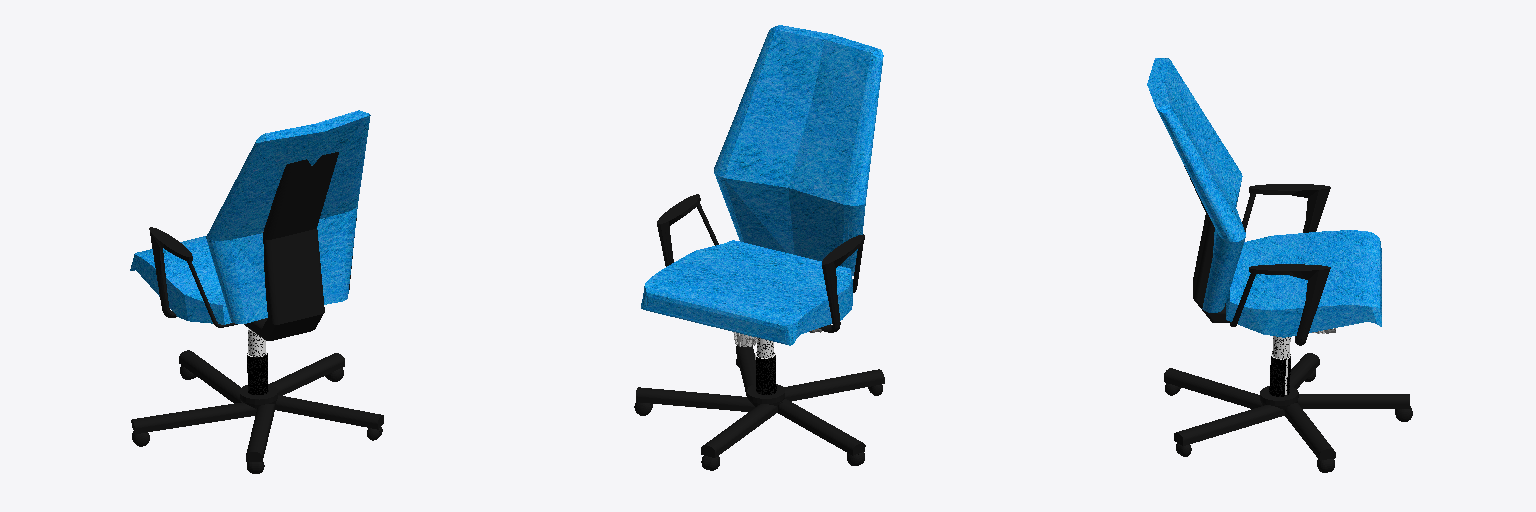
3 renders of one model, left to right at view 1: azimuth 30°, elevation 25°; view 2: azimuth 150°, elevation 25°; view 3: azimuth 270°, elevation 25°, orthographic.
Parts seen in each view (by area): view 1: mesh7_mesh7-geometry, mesh9_mesh9-geometry, mesh17_mesh17-geometry, mesh8_mesh8-geometry, mesh18_mesh18-geometry, mesh13_mesh13-geometry, mesh5_mesh5-geometry; view 2: mesh7_mesh7-geometry, mesh8_mesh8-geometry, mesh17_mesh17-geometry, mesh18_mesh18-geometry, mesh13_mesh13-geometry, mesh5_mesh5-geometry, mesh3_mesh3-geometry; view 3: mesh8_mesh8-geometry, mesh7_mesh7-geometry, mesh17_mesh17-geometry, mesh3_mesh3-geometry, mesh5_mesh5-geometry, mesh9_mesh9-geometry, mesh13_mesh13-geometry, mesh18_mesh18-geometry.
Boxes of the visible parts, x1,y1,x2,y2 form: mesh7_mesh7-geometry: [206, 110, 370, 323]; mesh9_mesh9-geometry: [244, 152, 338, 340]; mesh17_mesh17-geometry: [179, 350, 383, 462]; mesh8_mesh8-geometry: [130, 236, 231, 324]; mesh18_mesh18-geometry: [131, 400, 256, 433]; mesh13_mesh13-geometry: [247, 328, 267, 394]; mesh5_mesh5-geometry: [149, 227, 192, 305]; mesh7_mesh7-geometry: [714, 25, 883, 275]; mesh8_mesh8-geometry: [641, 240, 852, 345]; mesh17_mesh17-geometry: [636, 345, 884, 457]; mesh18_mesh18-geometry: [778, 399, 865, 455]; mesh13_mesh13-geometry: [733, 332, 776, 394]; mesh5_mesh5-geometry: [822, 234, 864, 327]; mesh3_mesh3-geometry: [657, 194, 700, 266]; mesh8_mesh8-geometry: [1226, 230, 1381, 337]; mesh7_mesh7-geometry: [1147, 58, 1245, 312]; mesh17_mesh17-geometry: [1164, 368, 1409, 460]; mesh3_mesh3-geometry: [1249, 264, 1330, 340]; mesh5_mesh5-geometry: [1249, 184, 1330, 232]; mesh9_mesh9-geometry: [1184, 166, 1229, 322]; mesh13_mesh13-geometry: [1269, 330, 1324, 396]; mesh18_mesh18-geometry: [1290, 353, 1319, 388].
Bounding box in the file's own units: 0.4755 × 0.7239 × 0.4998.
9 materials, 1 textured.